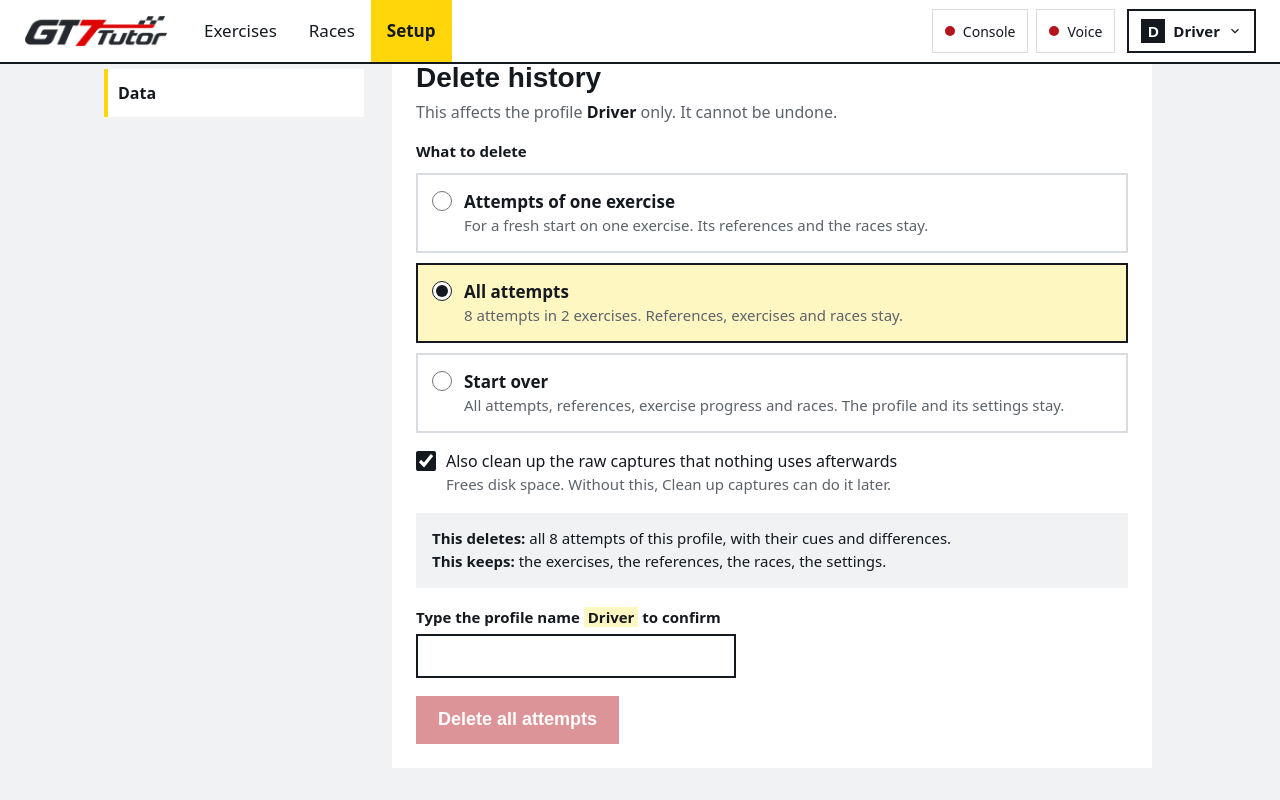
Test: delete history › delete_history_busy_shows_message
(page scrolled)
In the field labelled "Type the profile name Driver to confirm": (576,656) [416,634,736,678], type "Driver"
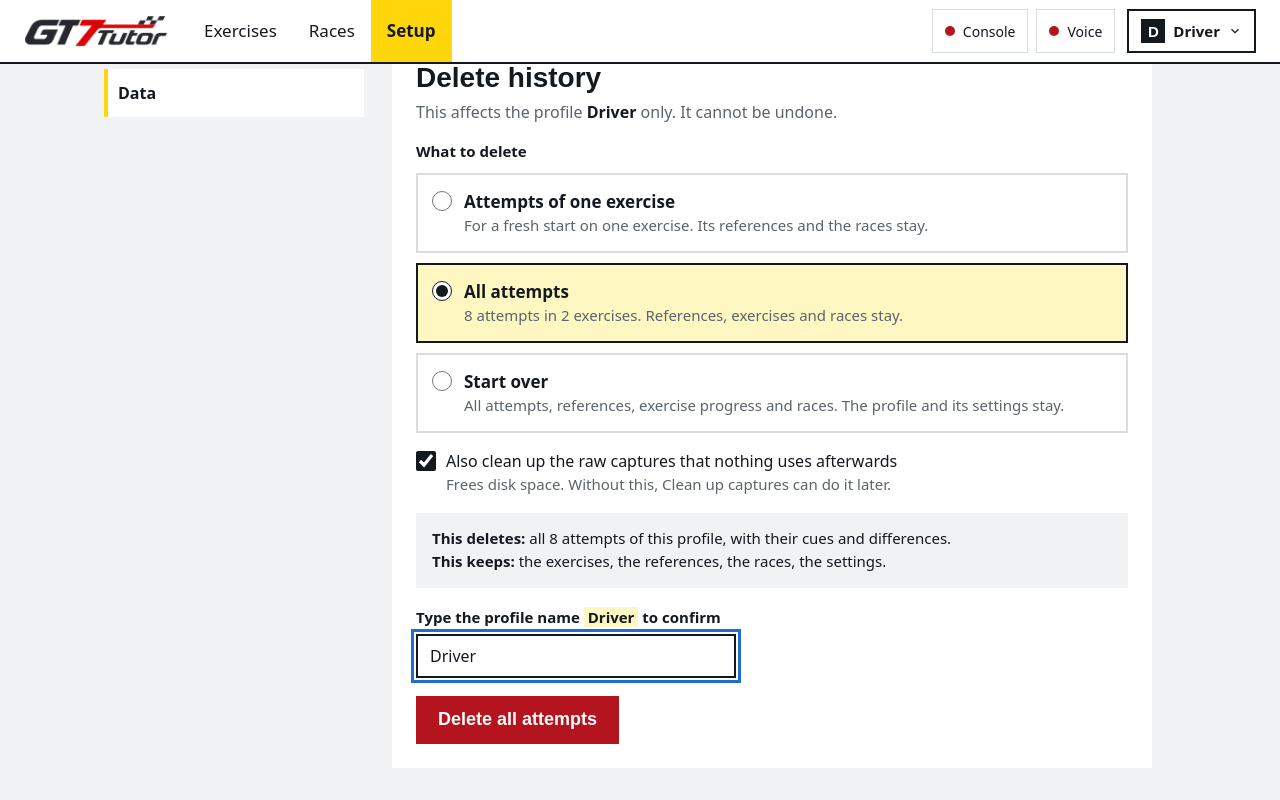
Click the button "Delete all attempts": (518,720) [416,696,619,744]
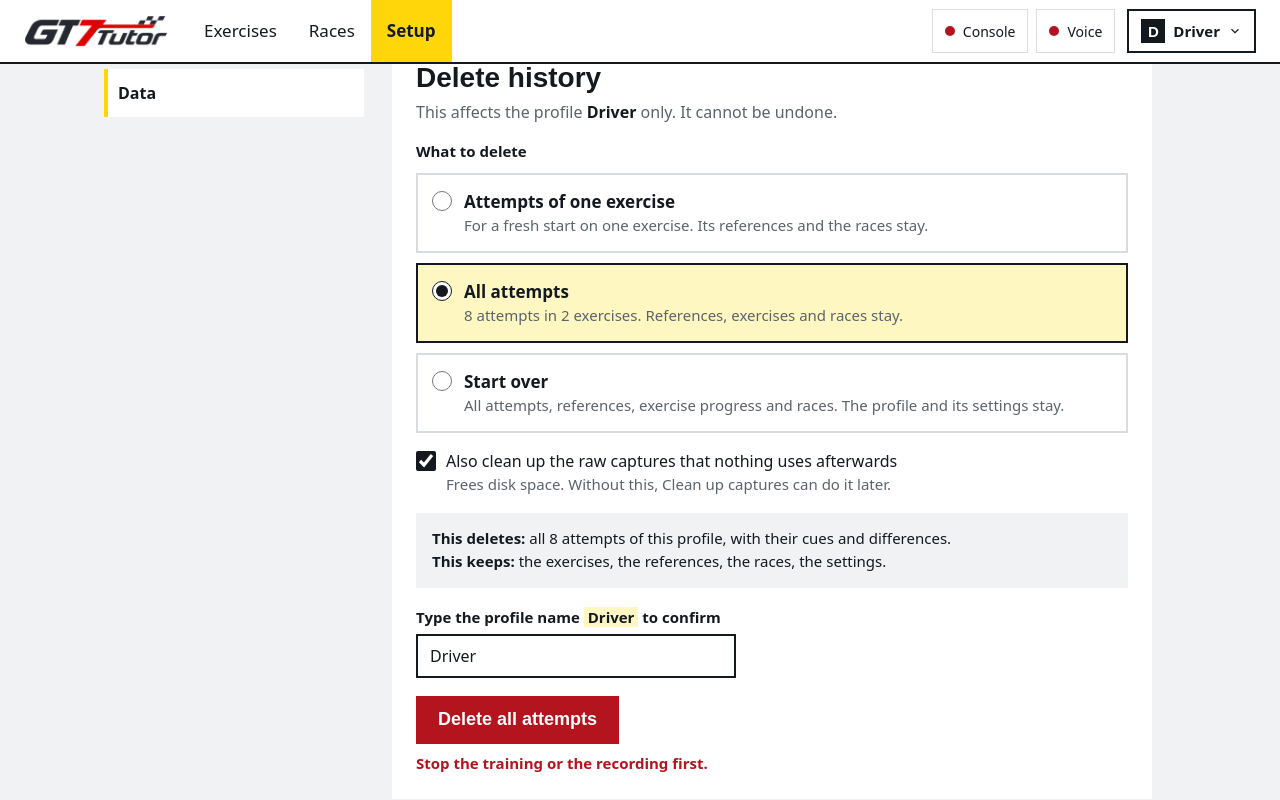
Expected: the message reads "Stop the training or the recording first.", [416,753,708,773]
